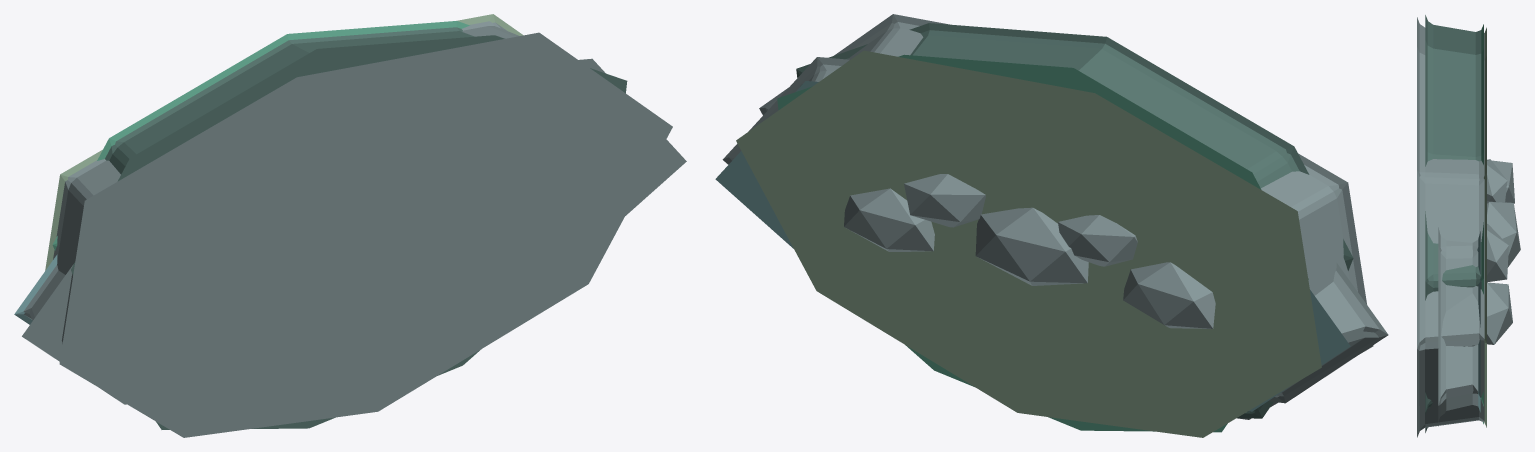
Rendered from CH01_TERRAIN_RELIEF_R7.glb.
3 renders of one model, left to right at view 1: azimuth 30°, elevation 25°; view 2: azimuth 150°, elevation 25°; view 3: azimuth 270°, elevation 25°, orthographic. The views are drawn at different scales.
Parts seen in each view (by area): view 1: RELIEF_RUIN_TERRACE_B, RELIEF_FOREST_MESA_A, RELIEF_COAST_SHELF_C; view 2: RELIEF_RUIN_TERRACE_B, RELIEF_FOREST_MESA_A, RELIEF_RIDGE_A, RELIEF_COAST_SHELF_C; view 3: RELIEF_RUIN_TERRACE_B, RELIEF_FOREST_MESA_A, RELIEF_COAST_SHELF_C, RELIEF_RIDGE_A.
Boxes of the visible parts, left/top/right/bottom form: RELIEF_RUIN_TERRACE_B: left=45, top=14, right=672, bottom=437; RELIEF_FOREST_MESA_A: left=52, top=21, right=627, bottom=429; RELIEF_COAST_SHELF_C: left=14, top=58, right=686, bottom=404; RELIEF_RUIN_TERRACE_B: left=736, top=14, right=1373, bottom=437; RELIEF_FOREST_MESA_A: left=777, top=23, right=1353, bottom=432; RELIEF_RIDGE_A: left=844, top=174, right=1215, bottom=328; RELIEF_COAST_SHELF_C: left=715, top=57, right=1388, bottom=411; RELIEF_RUIN_TERRACE_B: left=1417, top=17, right=1486, bottom=437; RELIEF_FOREST_MESA_A: left=1425, top=15, right=1483, bottom=432; RELIEF_COAST_SHELF_C: left=1438, top=227, right=1480, bottom=426; RELIEF_RIDGE_A: left=1487, top=159, right=1520, bottom=344.
Bounding box in the file's own units: 8.8 × 4.77 × 1.27.
